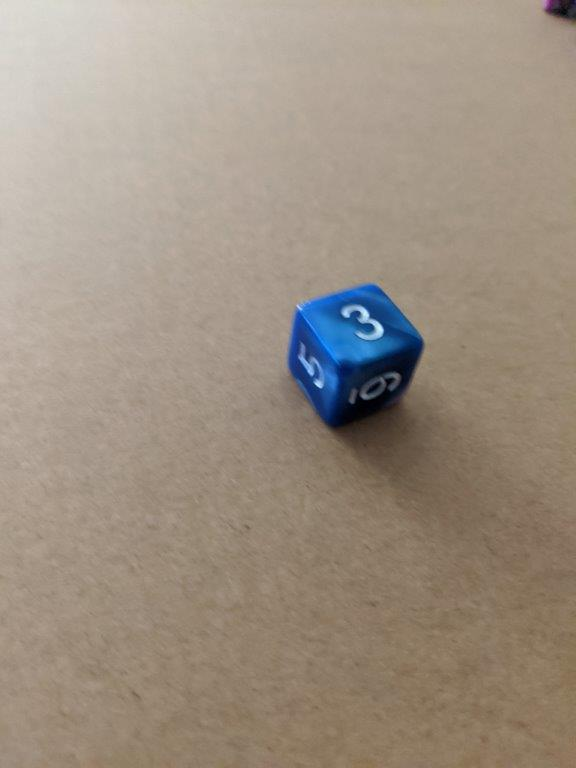d6-3: (288, 282, 424, 425)
